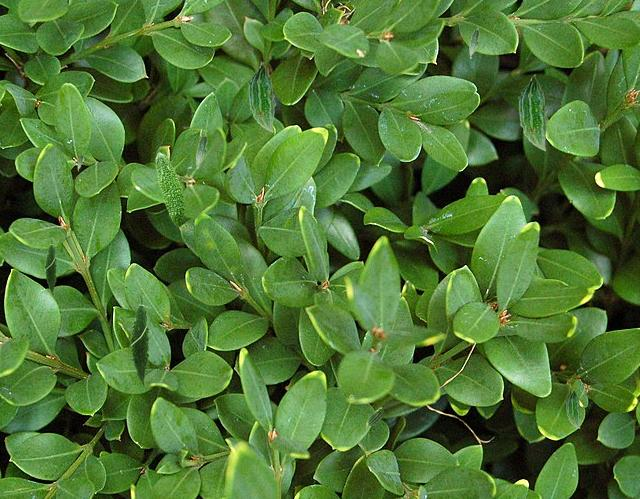ampalaya: (517, 73, 549, 151), (155, 152, 186, 230), (128, 293, 152, 387), (247, 61, 276, 132), (43, 237, 58, 296), (565, 389, 582, 429), (195, 132, 207, 168), (365, 407, 383, 428), (468, 26, 479, 59), (77, 153, 83, 171)
